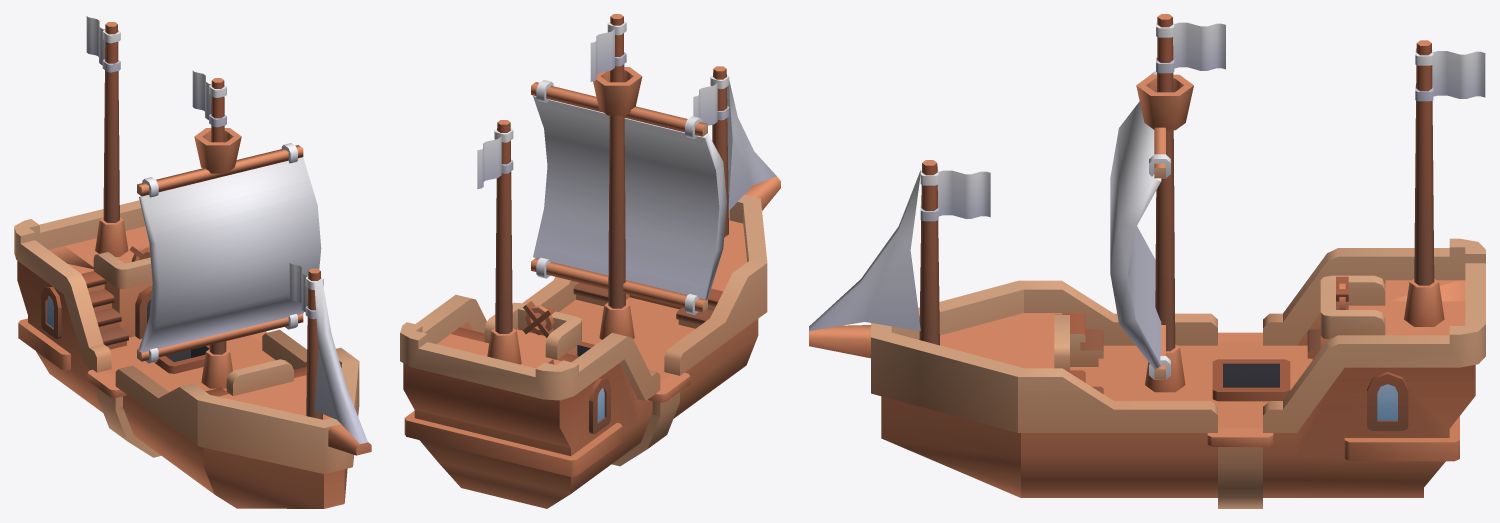
The model's file is goal.fbx.
The picture shows the model from 3 angles, left to right: view 1: azimuth 30°, elevation 25°; view 2: azimuth 150°, elevation 25°; view 3: azimuth 270°, elevation 25°; orthographic projection. The views are drawn at different scales.
Parts seen in each view (by area): view 1: ship-large; view 2: ship-large; view 3: ship-large.
Boxes of the visible parts, <box> form: ship-large: <box>14,16,371,508</box>; ship-large: <box>400,14,780,508</box>; ship-large: <box>809,14,1485,508</box>.
Size of the model in its own units: 4.8 by 9.96 by 13.1.
1 material, 1 textured.
